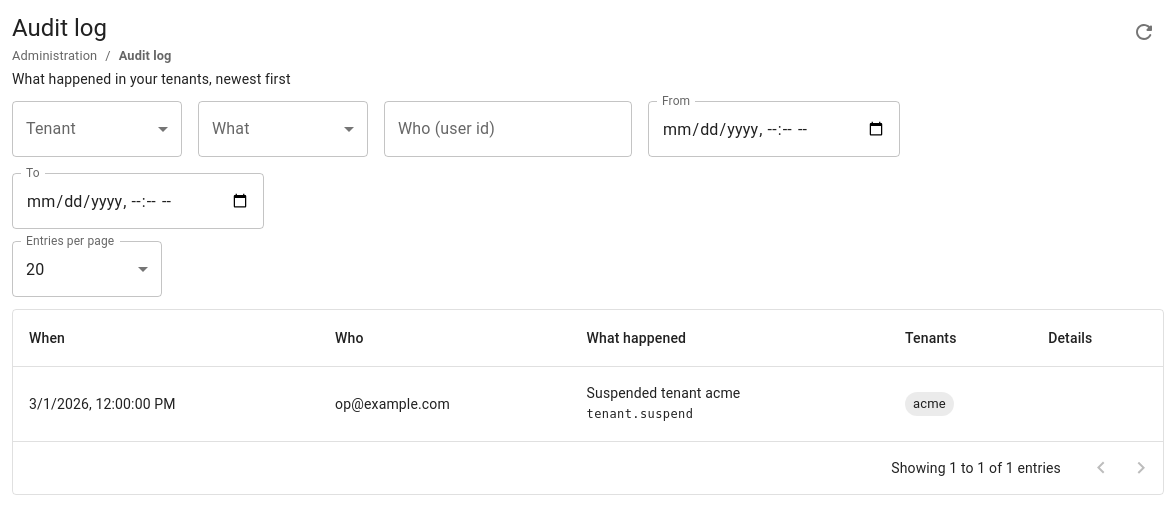
Scenario: AuditPage › as a tenant manager › offers only their own tenants, and does not load the full tenant list
Check: the text "Suspended tenant acme" is shown, box 586,385 -> 740,401
Click the 1st dropdown named "Tenant": (97, 129) 12,101 -> 182,157
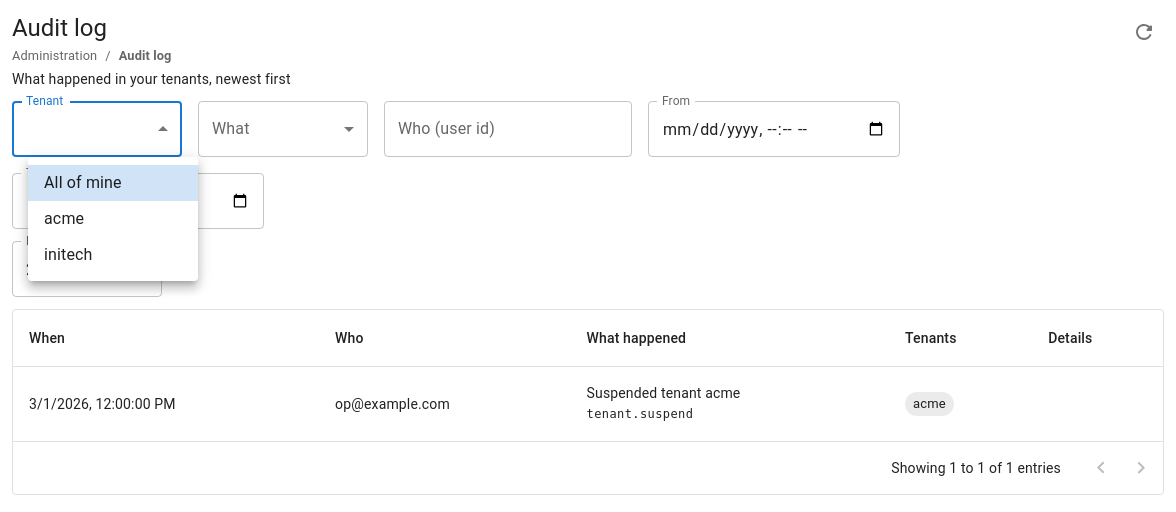
Check: the options read "All of mine", "acme", "initech", in this order, box 28,165 -> 198,201; 44,209 -> 84,228; 44,245 -> 93,264
